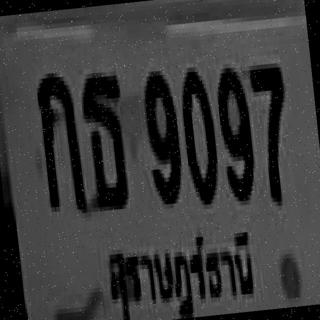A01: (33, 64, 86, 215)
A24: (78, 66, 132, 209)
N00: (176, 61, 222, 206)
N07: (246, 58, 294, 203)
N09: (212, 62, 259, 204), (140, 67, 185, 207)
P67: (100, 215, 262, 320)
